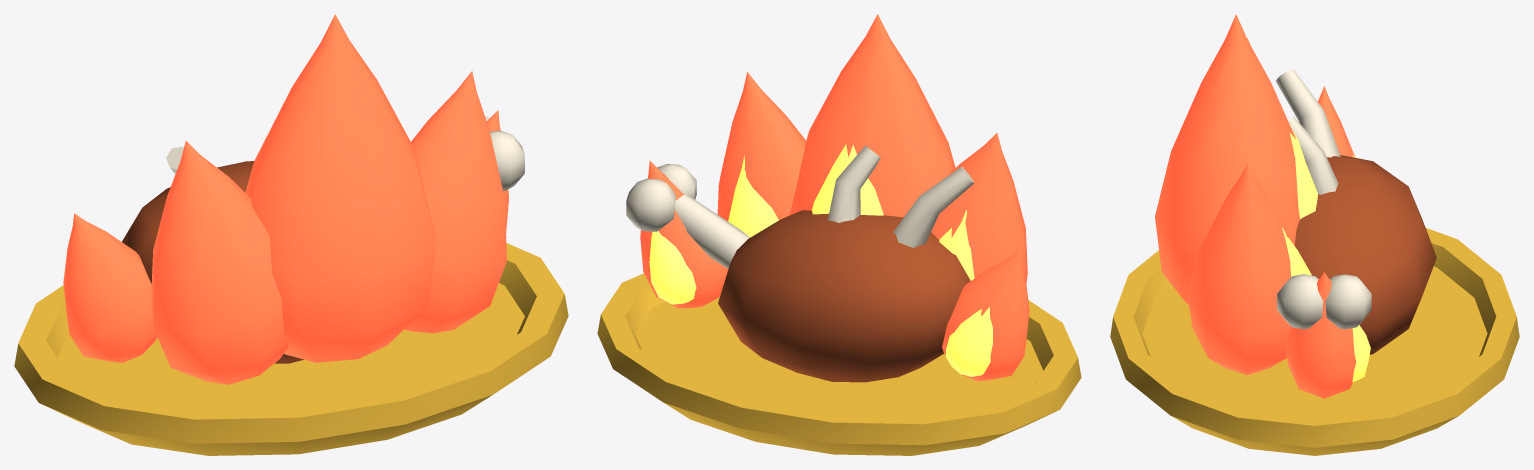
The model's file is Food_dragon_feast.glb.
3 views of the same model, side by side, from view 1: azimuth 30°, elevation 25°; view 2: azimuth 150°, elevation 25°; view 3: azimuth 270°, elevation 25° (orthographic). The views are drawn at different scales.
Visible parts, largest first — view 1: FlameRed_FF4A2E, Gold_FFC83D, Roast_B5552B, Bone_FFF6E0; view 2: Gold_FFC83D, FlameRed_FF4A2E, Roast_B5552B, Bone_FFF6E0, FlameYellow_FFE14A; view 3: Gold_FFC83D, FlameRed_FF4A2E, Roast_B5552B, Bone_FFF6E0, FlameYellow_FFE14A.
Boxes of the visible parts, <box> form: FlameRed_FF4A2E: <box>63,14,508,384</box>; Gold_FFC83D: <box>14,243,568,455</box>; Roast_B5552B: <box>122,161,303,363</box>; Bone_FFF6E0: <box>166,116,524,190</box>; Gold_FFC83D: <box>597,273,1081,455</box>; FlameRed_FF4A2E: <box>640,14,1029,381</box>; Roast_B5552B: <box>718,210,970,382</box>; Bone_FFF6E0: <box>626,145,973,268</box>; FlameYellow_FFE14A: <box>649,144,992,376</box>; Gold_FFC83D: <box>1110,228,1519,455</box>; FlameRed_FF4A2E: <box>1155,14,1356,398</box>; Roast_B5552B: <box>1294,155,1436,354</box>; Bone_FFF6E0: <box>1275,69,1371,329</box>; FlameYellow_FFE14A: <box>1282,130,1370,381</box>.
Size of the model in its own units: 2.8 by 2.1 by 2.18.
